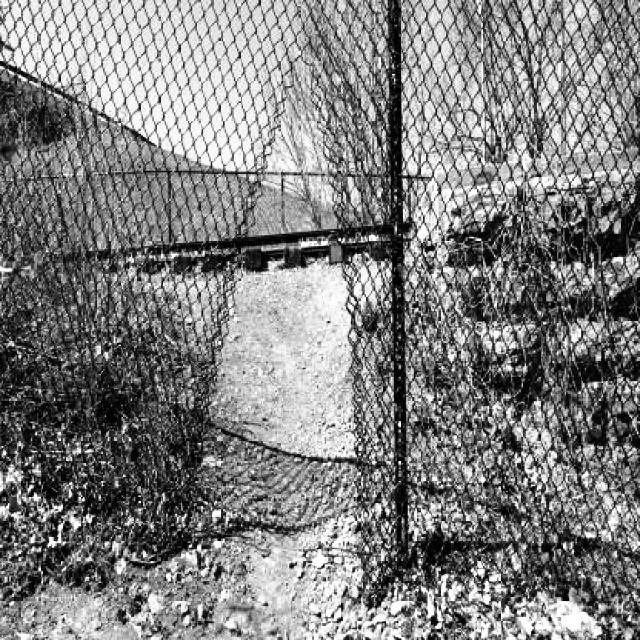anomaly-fence: (176, 61, 410, 541)
